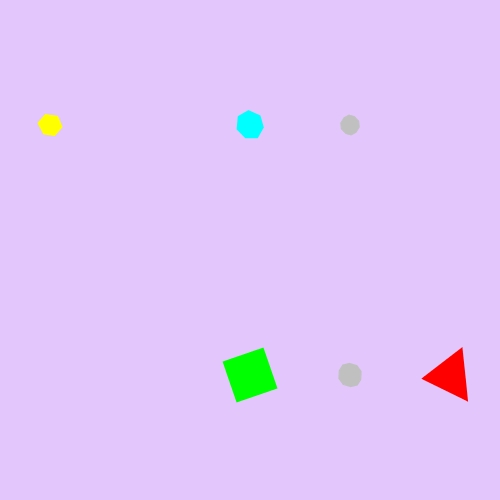decagon: (333, 360, 367, 391), (335, 111, 365, 139)
heptagon: (232, 108, 269, 143)
hexagon: (33, 111, 67, 140)
quadrilateral: (217, 342, 284, 409)
triangle: (424, 347, 477, 403)
